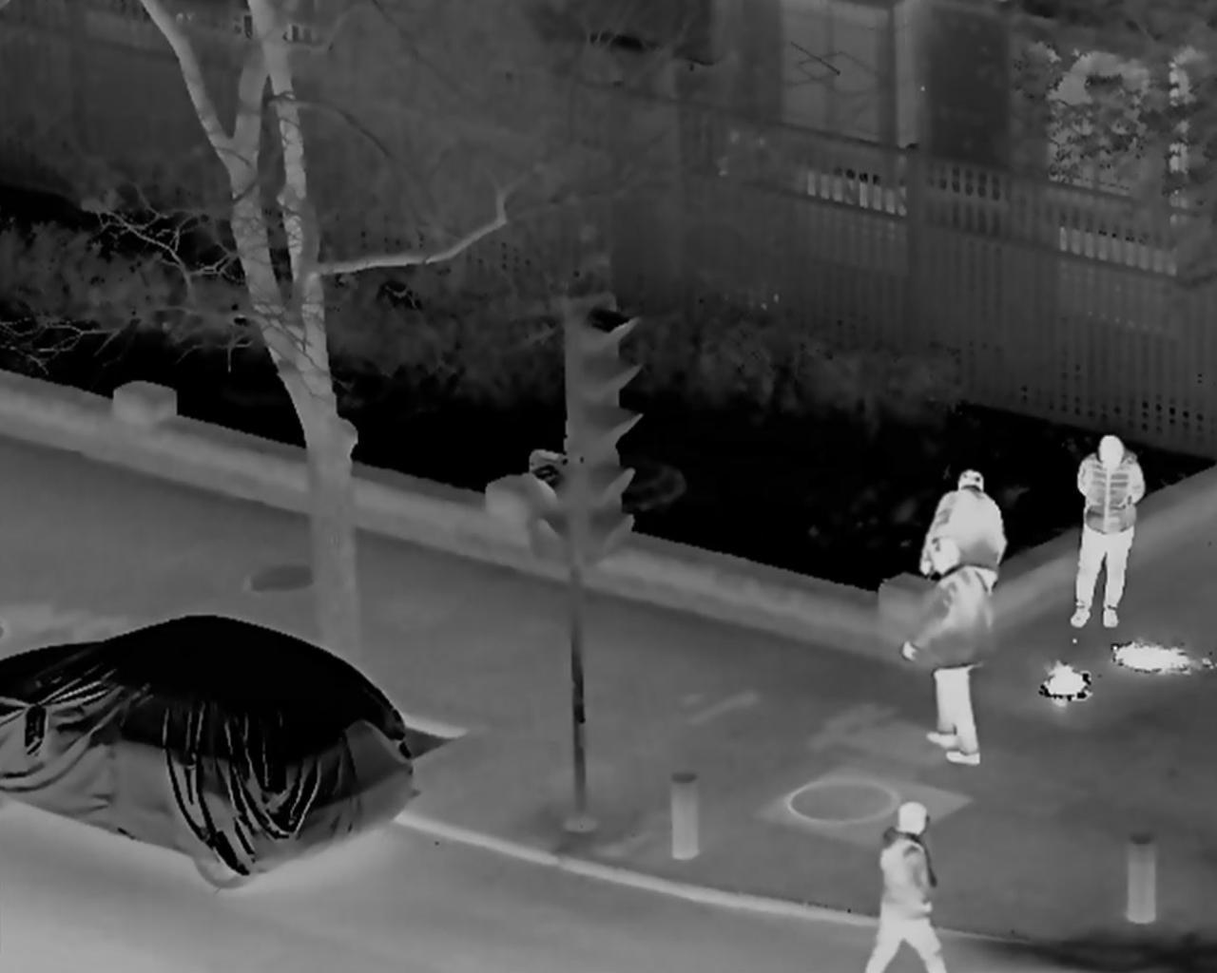person: (894, 537, 991, 772), (921, 467, 1007, 663), (860, 801, 949, 973), (1070, 435, 1144, 633)
